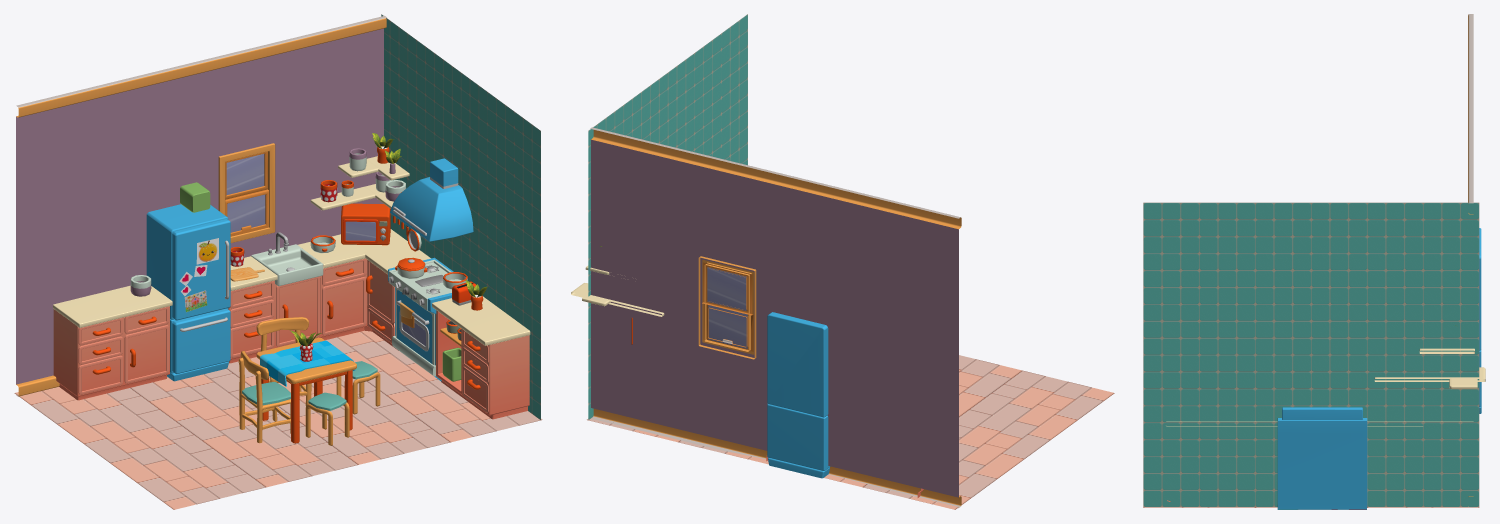
Rendered from a_low-poly_modular_kitchen_set.glb.
The picture shows the model from 3 angles, left to right: view 1: azimuth 30°, elevation 25°; view 2: azimuth 150°, elevation 25°; view 3: azimuth 270°, elevation 25°; orthographic projection. The views are drawn at different scales.
Visible parts, largest first — view 1: Kitchen; view 2: Kitchen; view 3: Kitchen.
Boxes of the visible parts, box(x1,y1,x2,y2) form: Kitchen: box(14, 14, 542, 509); Kitchen: box(571, 14, 1114, 509); Kitchen: box(1143, 14, 1485, 509).
Bounding box in the file's own units: 4.63 × 3.32 × 3.38.
Materials: 1 (1 with a texture image).
